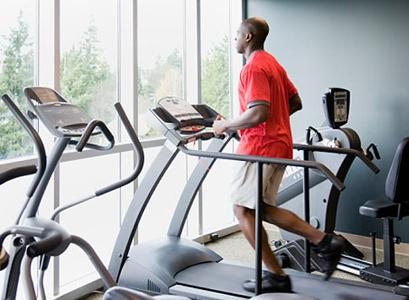person: (212, 17, 346, 296)
